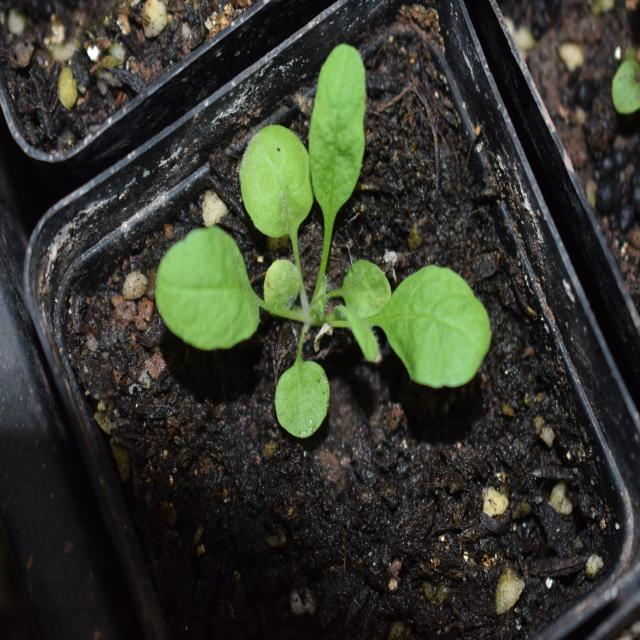Shepherd_Purse: (163, 55, 470, 445)
